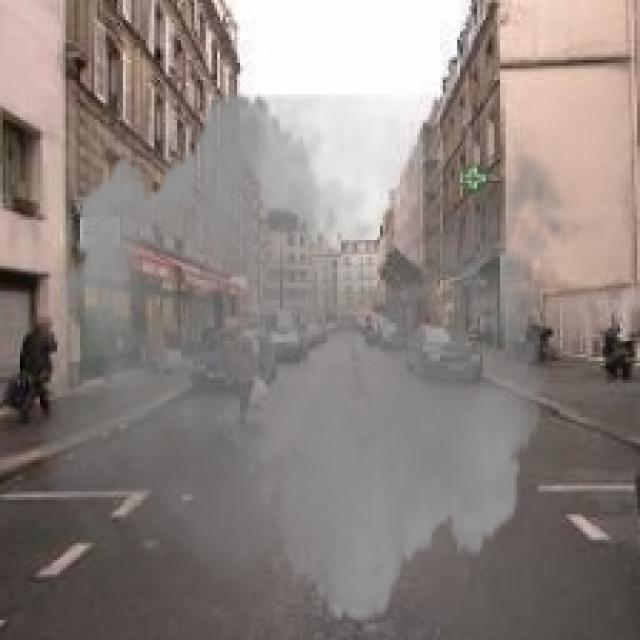smoke: (26, 74, 588, 637)
